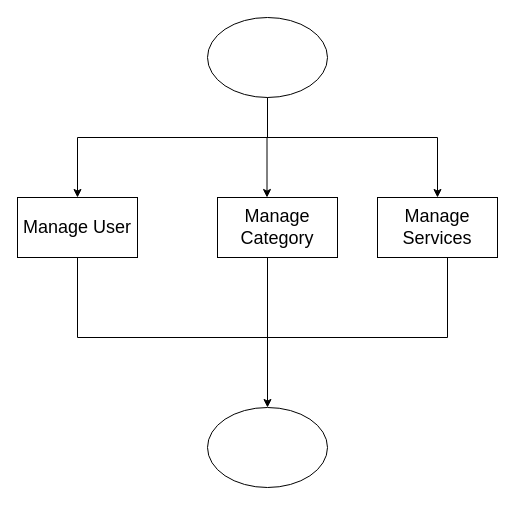
This 515x505 diagram has some shape labels left out. The shapes that lost their labels are listed below. From the top down, each one's centre as x and y in pixels, then its label:
At pixel 267 57: "Start".
At pixel 267 447: "End".
